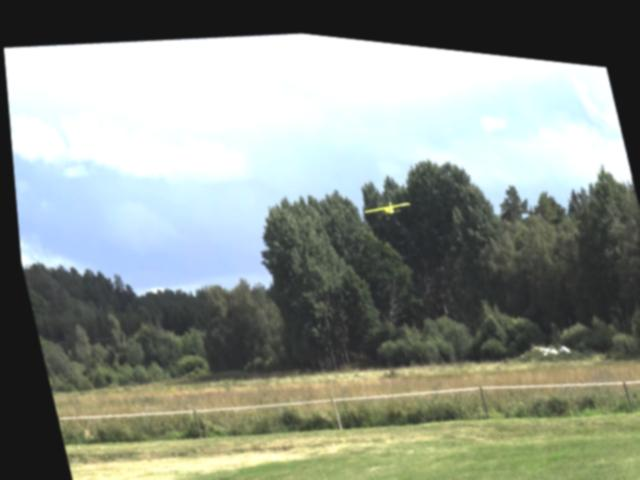plane: (359, 186, 407, 213)
